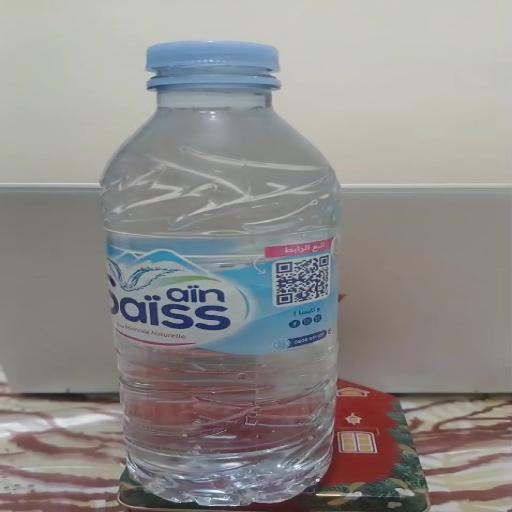bouteille non conformite: (105, 20, 368, 104)
